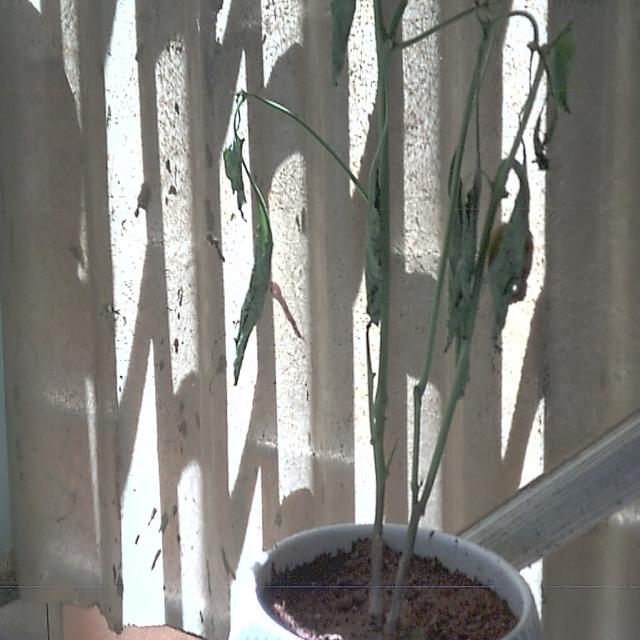Leaf: (234, 170, 276, 387), (361, 128, 387, 331)
